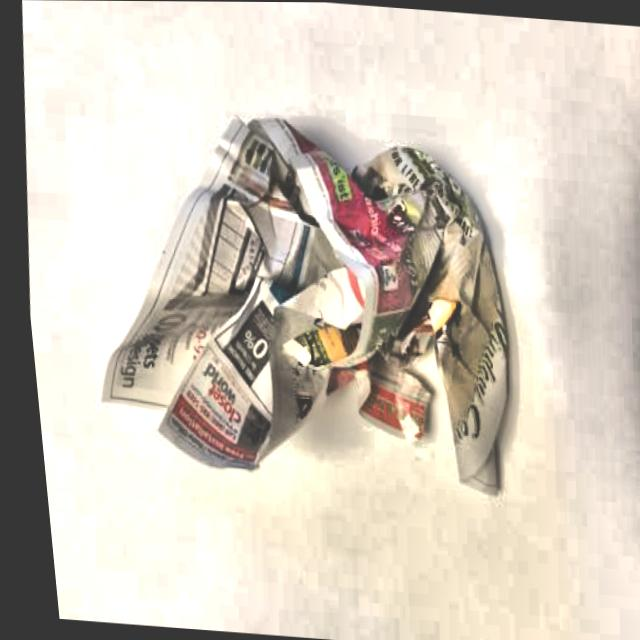Paper: (48, 86, 545, 518)
